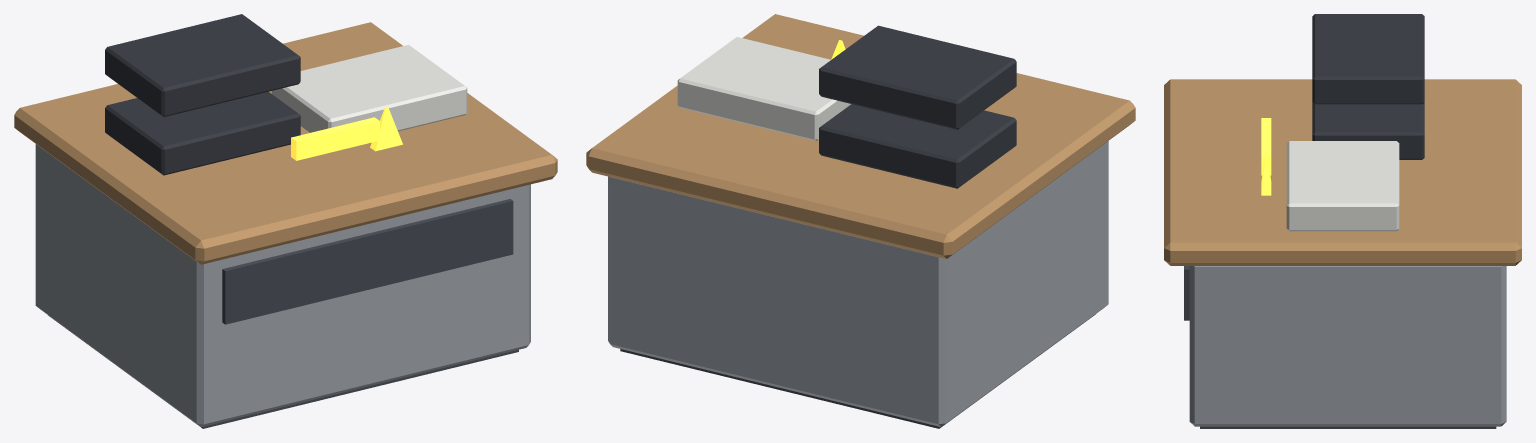
Rendered from delegation_1.glb.
The picture shows the model from 3 angles, left to right: view 1: azimuth 30°, elevation 25°; view 2: azimuth 150°, elevation 25°; view 3: azimuth 270°, elevation 25°; orthographic projection. The views are drawn at different scales.
Parts seen in each view (by area): view 1: delegation_1_mesh_Desk, delegation_1_mesh; view 2: delegation_1_mesh_Desk, delegation_1_mesh; view 3: delegation_1_mesh_Desk, delegation_1_mesh.
Part boxes in pixels (x1,y1,x2,y2): delegation_1_mesh_Desk: (14,22,557,428); delegation_1_mesh: (105,14,467,175); delegation_1_mesh_Desk: (586,14,1135,428); delegation_1_mesh: (677,25,1016,188); delegation_1_mesh_Desk: (1164,79,1521,428); delegation_1_mesh: (1261,14,1424,231).
Size of the model in its own units: 0.78 by 0.6 by 0.7.
